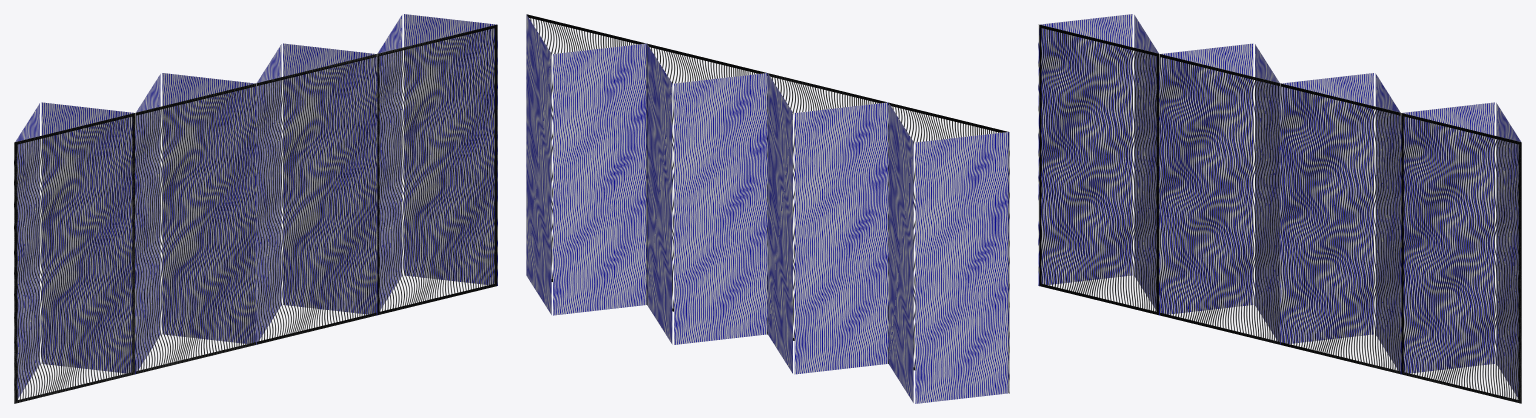
3 views of the same model, side by side, from view 1: azimuth 30°, elevation 25°; view 2: azimuth 150°, elevation 25°; view 3: azimuth 330°, elevation 25° (orthographic).
Visible parts, largest first — view 1: larger panels, larger panels.002, larger panels.001, larger panels.003, fins 11 15 26 A, fins 11 15 26 A.006, fins 11 15 26 A.005, fins 11 15 26 A.007, frame.001; view 2: larger panels.002, larger panels.001, larger panels, larger panels.003, frame.001, fins 11 15 26 A, fins 11 15 26 A.005, fins 11 15 26 A.006, fins 11 15 26 A.007; view 3: larger panels.002, larger panels, larger panels.003, larger panels.001, fins 11 15 26 A.006, fins 11 15 26 A, fins 11 15 26 A.007, fins 11 15 26 A.005, frame.001.
Boxes of the visible parts, <box> form: larger panels: <box>256,43,376,344</box>; larger panels.002: <box>135,73,256,370</box>; larger panels.001: <box>377,14,497,315</box>; larger panels.003: <box>15,102,135,398</box>; fins 11 15 26 A: <box>135,83,255,373</box>; fins 11 15 26 A.006: <box>255,54,376,344</box>; fins 11 15 26 A.005: <box>14,113,134,403</box>; fins 11 15 26 A.007: <box>376,28,496,315</box>; frame.001: <box>14,24,497,403</box>; larger panels.002: <box>767,73,888,374</box>; larger panels.001: <box>526,14,646,315</box>; larger panels: <box>647,44,767,344</box>; larger panels.003: <box>888,103,1008,403</box>; frame.001: <box>527,14,1009,392</box>; fins 11 15 26 A: <box>768,74,888,363</box>; fins 11 15 26 A.005: <box>889,103,1009,393</box>; fins 11 15 26 A.006: <box>648,44,767,331</box>; fins 11 15 26 A.007: <box>530,18,638,279</box>; larger panels.002: <box>1159,43,1280,344</box>; larger panels: <box>1280,73,1400,373</box>; larger panels.003: <box>1038,14,1158,310</box>; larger panels.001: <box>1401,102,1520,397</box>; fins 11 15 26 A.006: <box>1279,86,1400,373</box>; fins 11 15 26 A: <box>1159,55,1279,344</box>; fins 11 15 26 A.007: <box>1401,113,1521,403</box>; fins 11 15 26 A.005: <box>1038,25,1158,312</box>; frame.001: <box>1039,25,1521,403</box>.
Bounding box in the file's own units: 172 × 89 × 21.21.
Materials: 13 (12 with a texture image).
